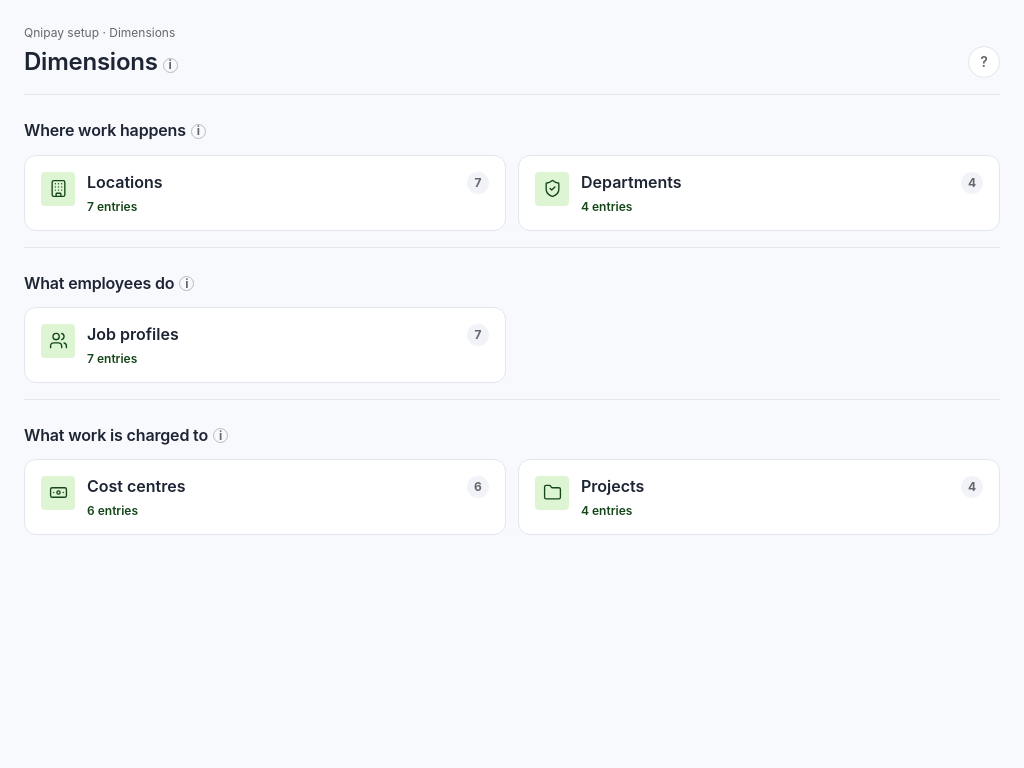
Test: the aloc page offers a ? that opens its guide, section by section
Click the button "?".
click(984, 62)  # box top-left (968, 46), bottom-right (1000, 78)
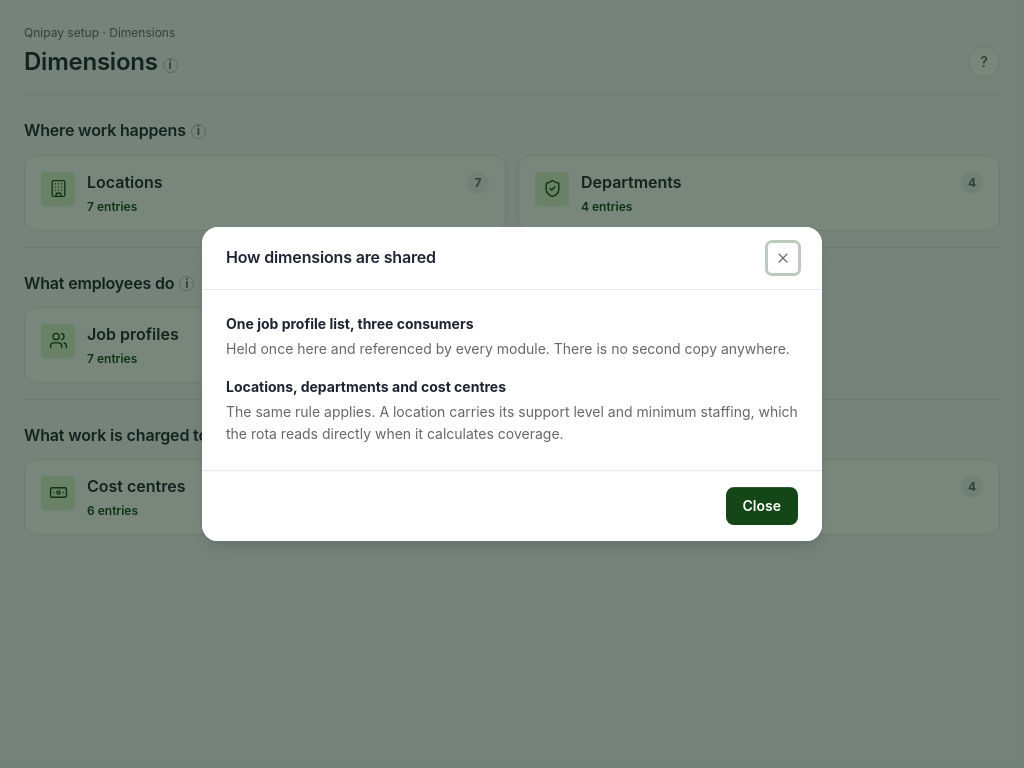
Result: the heading with test id "modal-title" reads "How dimensions are shared" at top-left (226, 248), bottom-right (436, 268)
Result: the heading "One job profile list, three consumers" is shown at top-left (226, 315), bottom-right (474, 332)
Result: the dialog shows "Held once here and referenced by every module. There is no second copy anywhere." at top-left (226, 340), bottom-right (790, 357)
Click the button with test id "guide-close".
click(762, 506)  # box top-left (726, 487), bottom-right (798, 525)
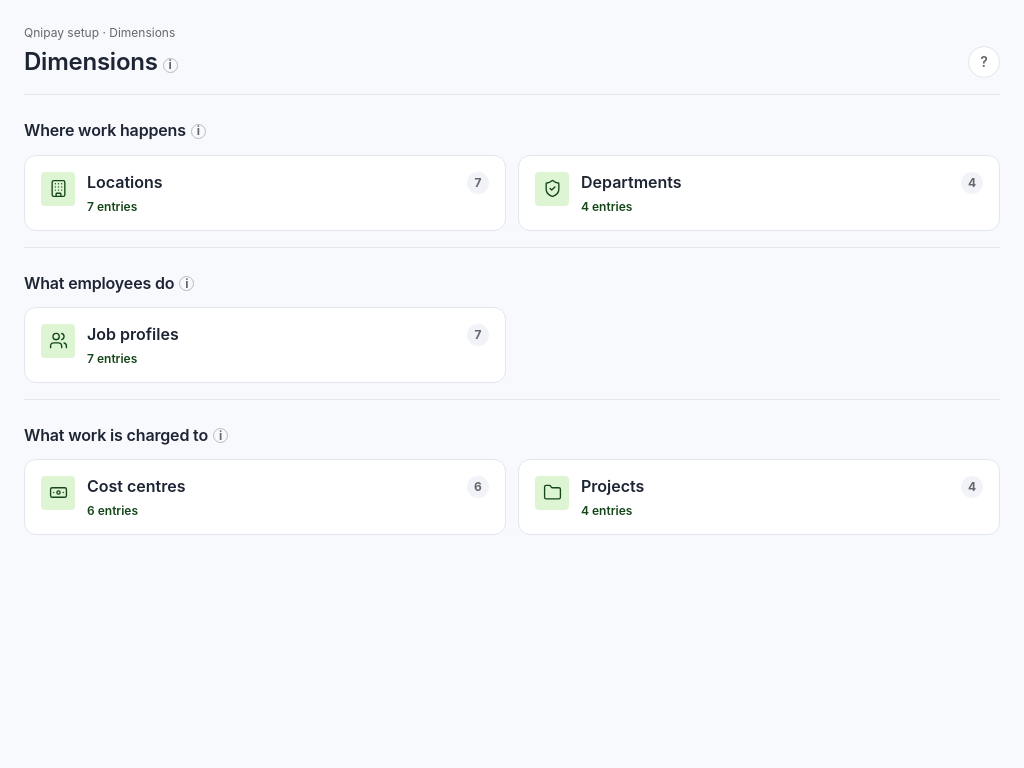
Result: the dialog is gone
